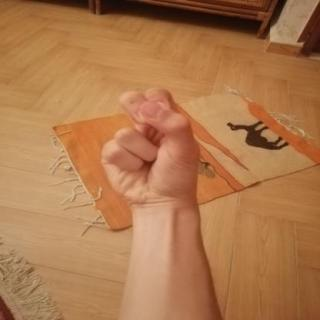QAAF: (89, 81, 217, 213)
